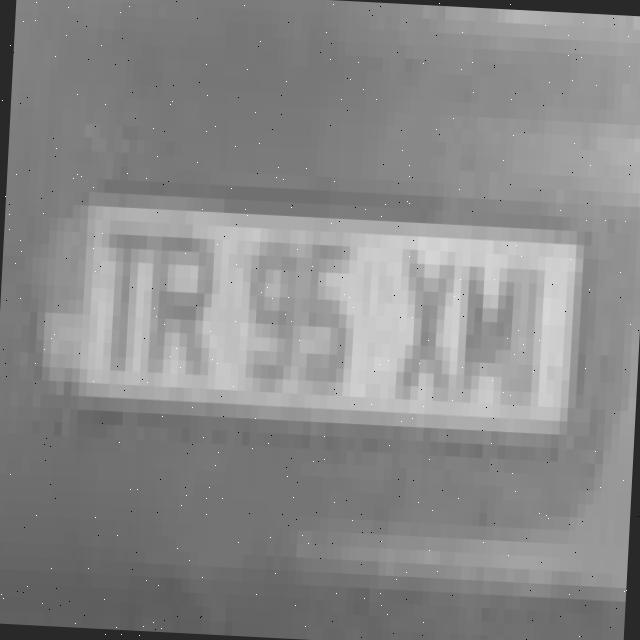Autre: (29, 195, 595, 445)
